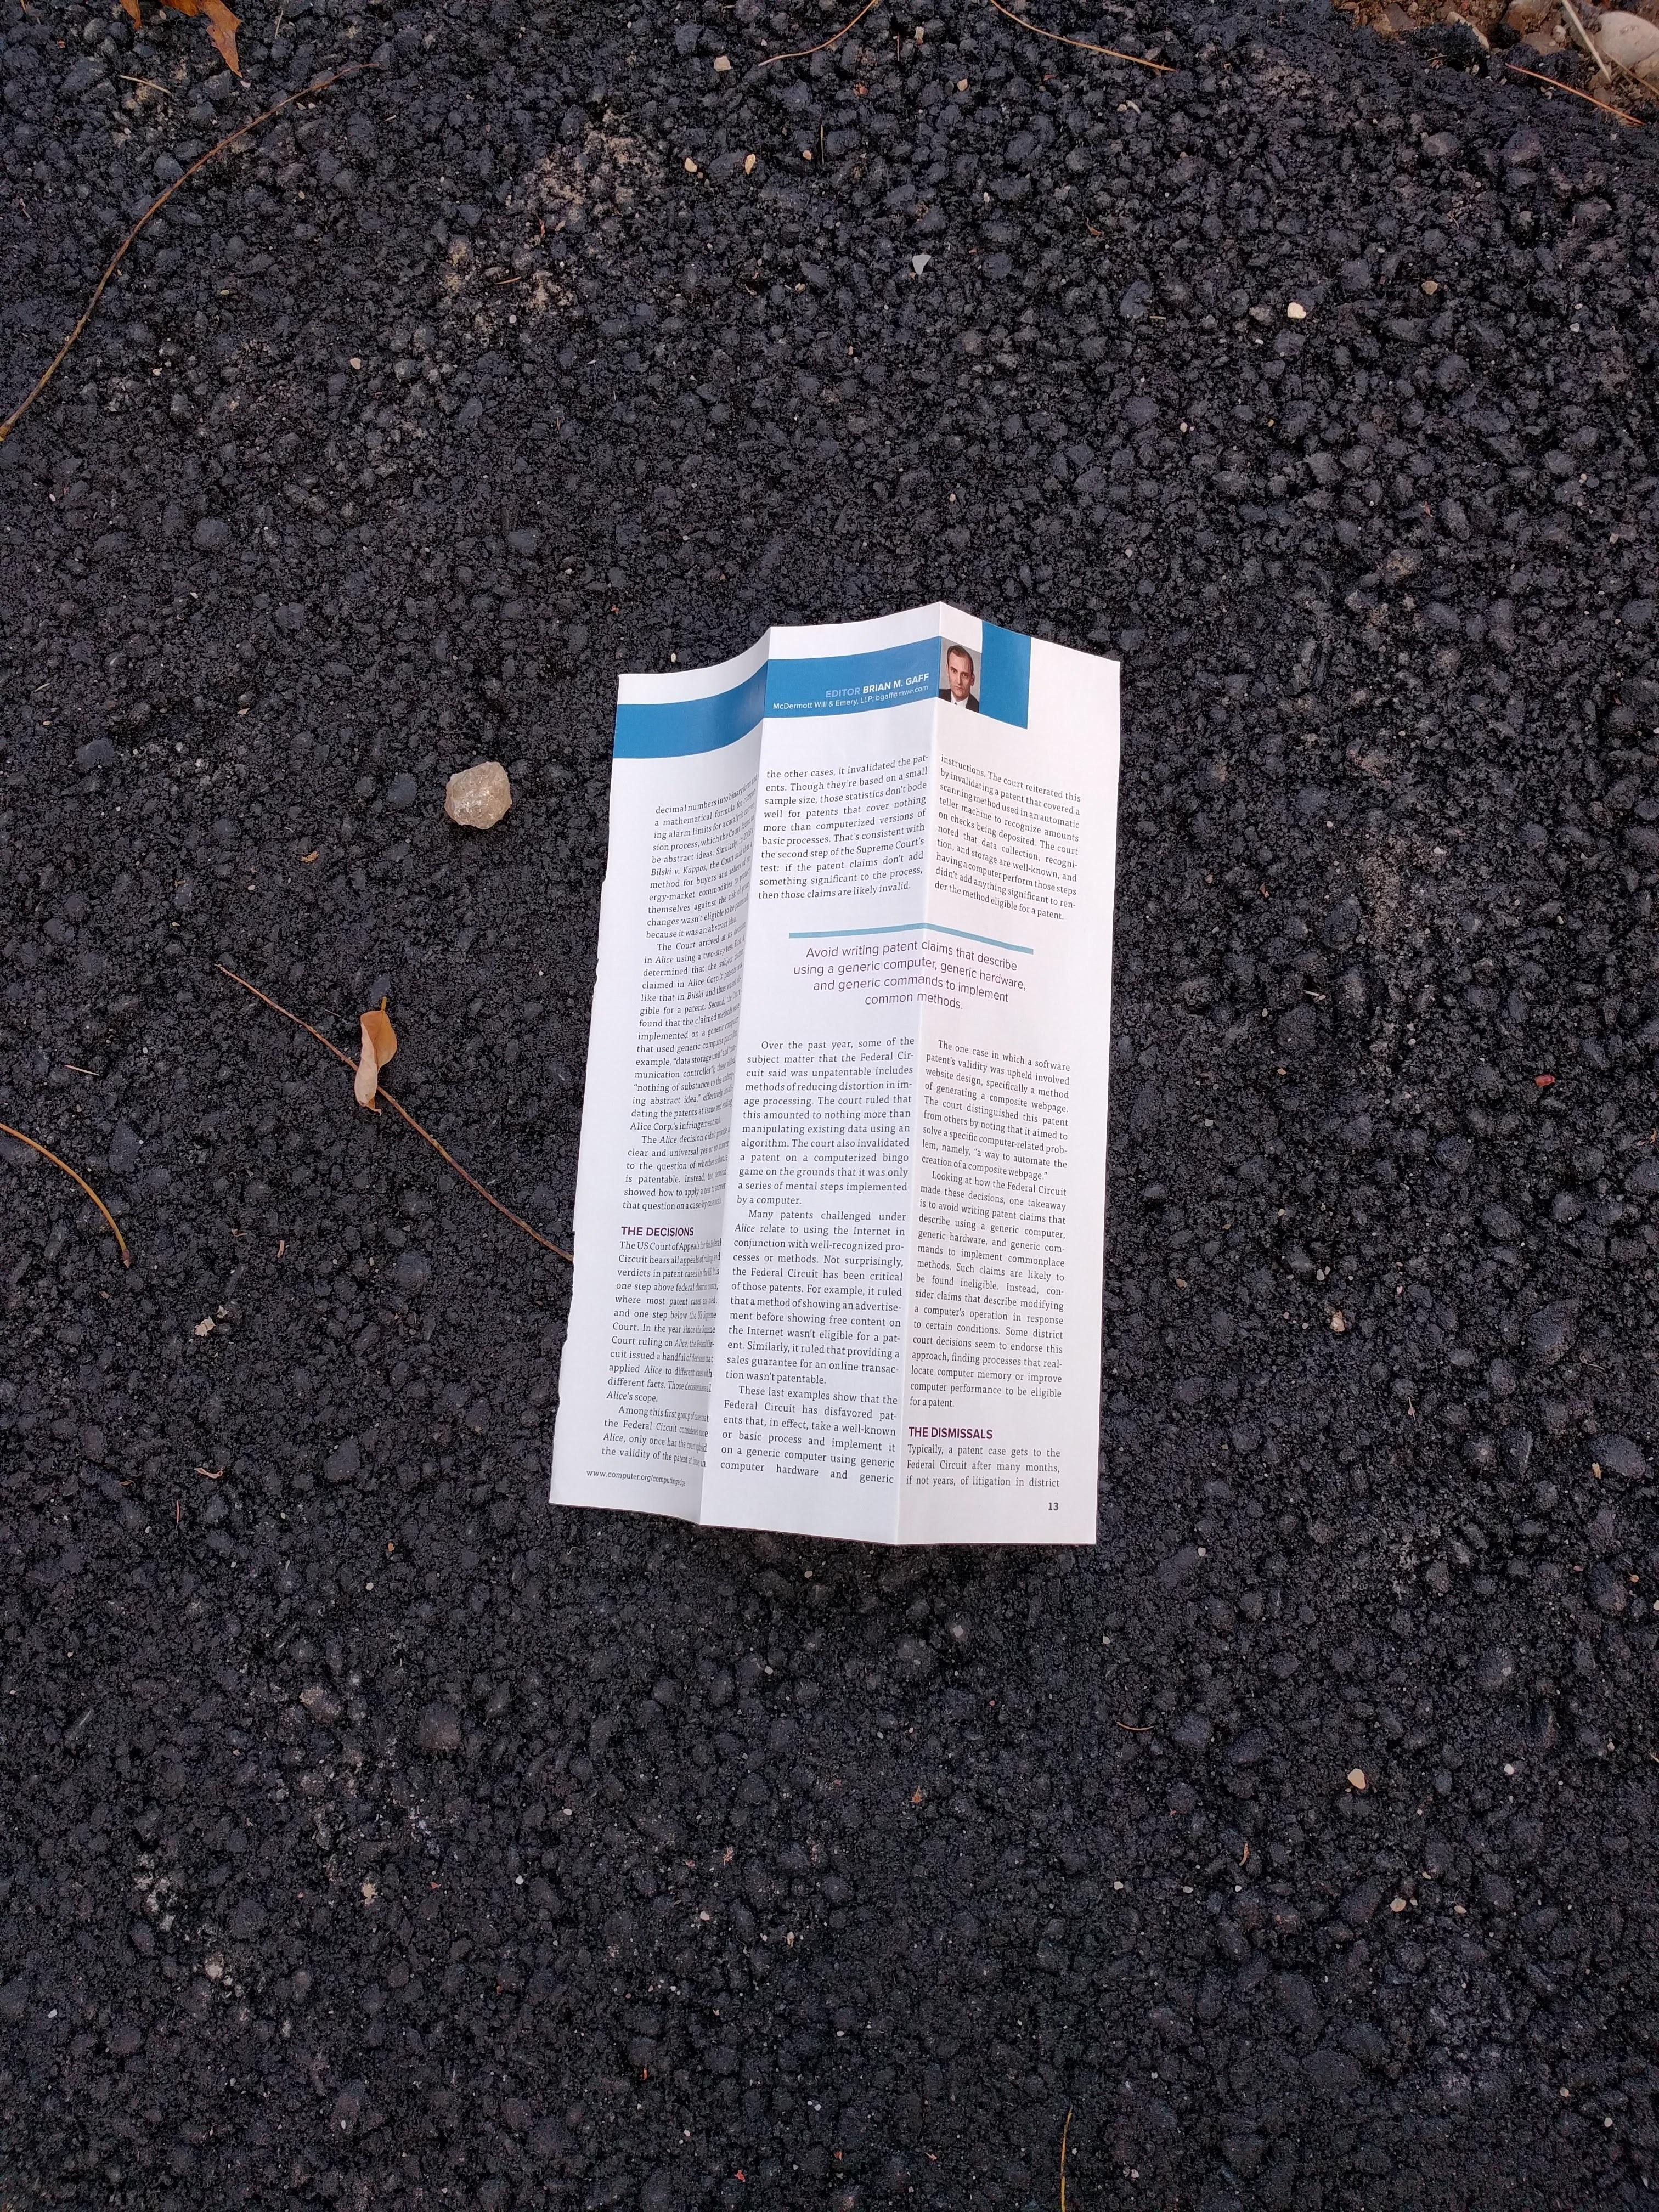paper: (382, 482, 1337, 1799)
